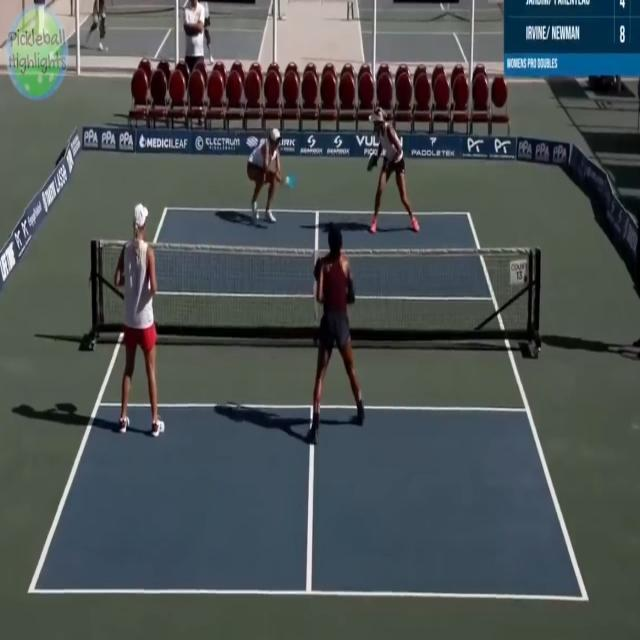Court: (33, 206, 585, 596)
